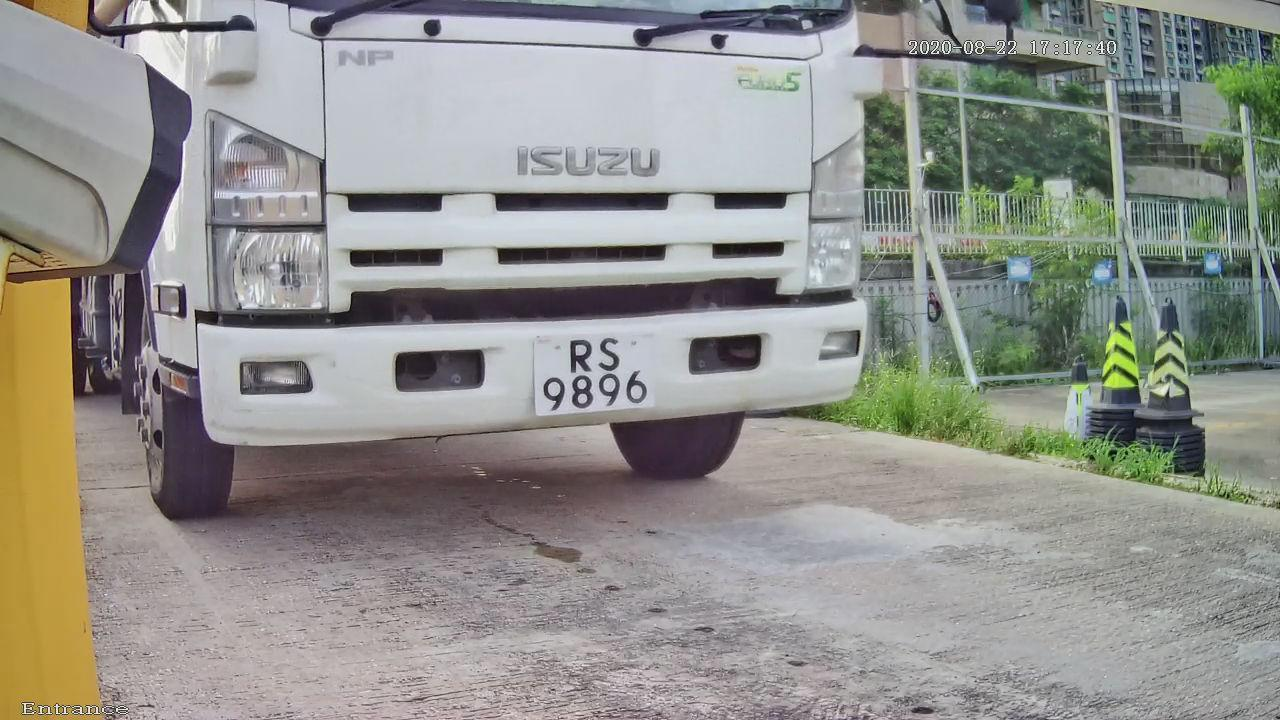License Plate: (469, 296, 694, 465)
